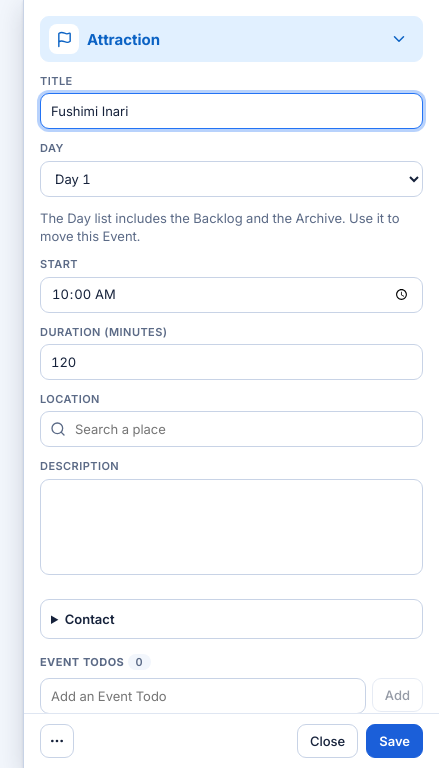
Test: EventPanel on a phone › saves a place chosen in the Location field on Save, and Transport has From and To
Step 1. Type "kin" into the dropdown labelled "Location" → (232, 429), box [40,411,423,447]
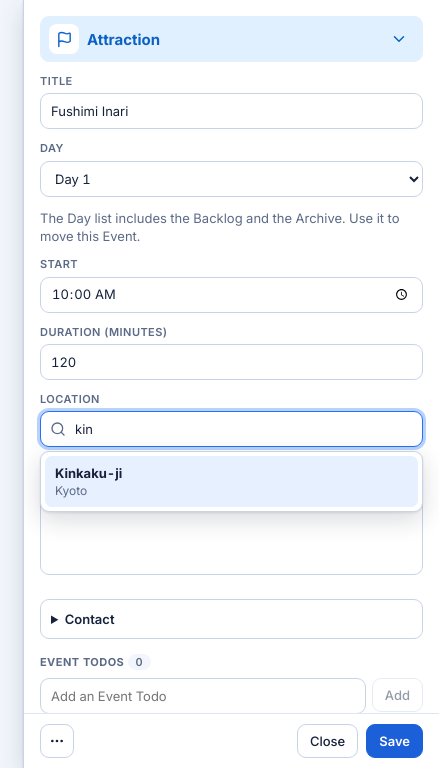
Step 2. Click the option "Kinkaku-ji Kyoto" → (89, 473), box [45,456,418,507]
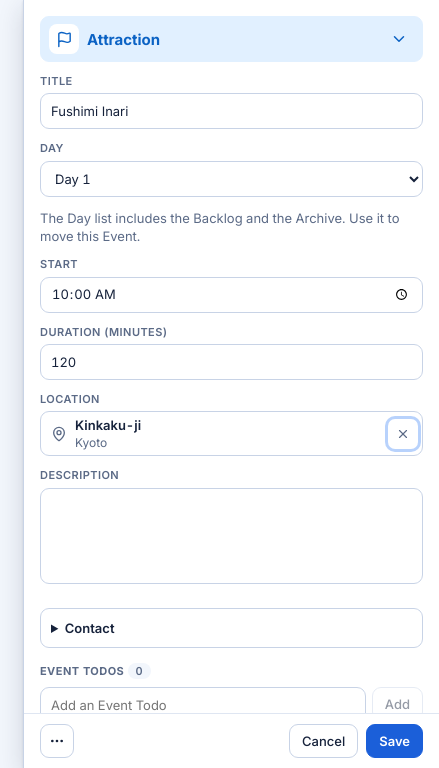
Step 3. Click the button "Save" → (395, 741), box [366,724,423,758]
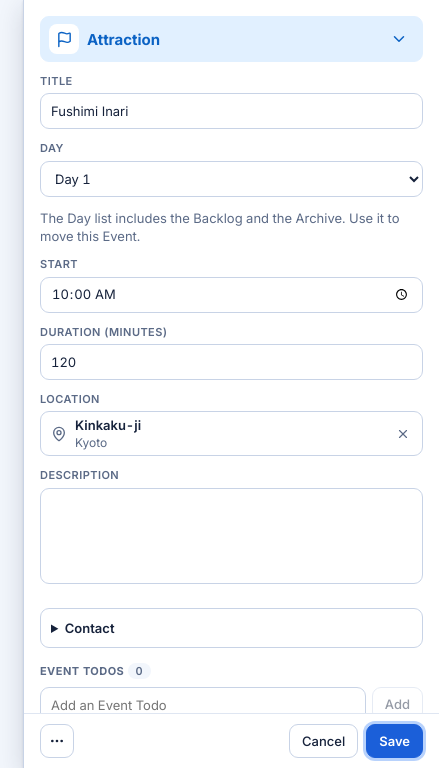
Step 4. Click the button with aria-label "Kind:" → (124, 39), box [40,16,423,62]
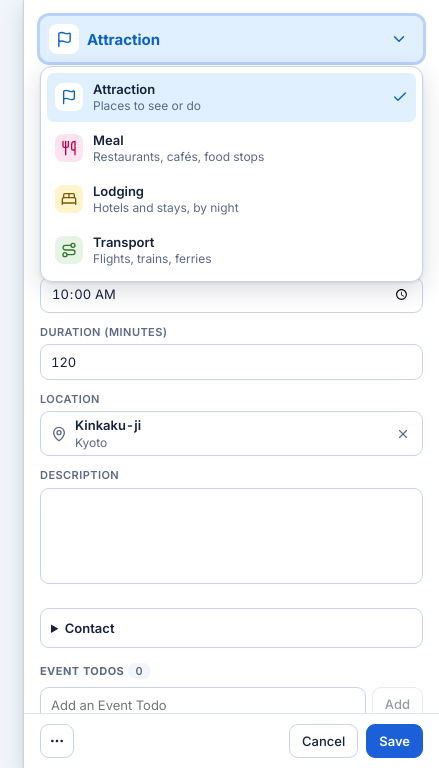
Step 5. Click the option "Transport Flights, trains, ferries" → (124, 242), box [47,226,416,275]
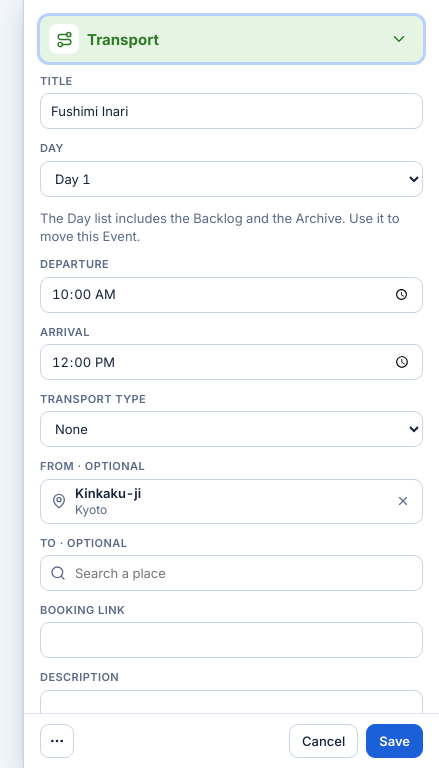
Expected: the text "From · optional" is shown, [40,459,145,473]
Expected: the dropdown labelled "To · optional" is shown, [40,555,423,591]
